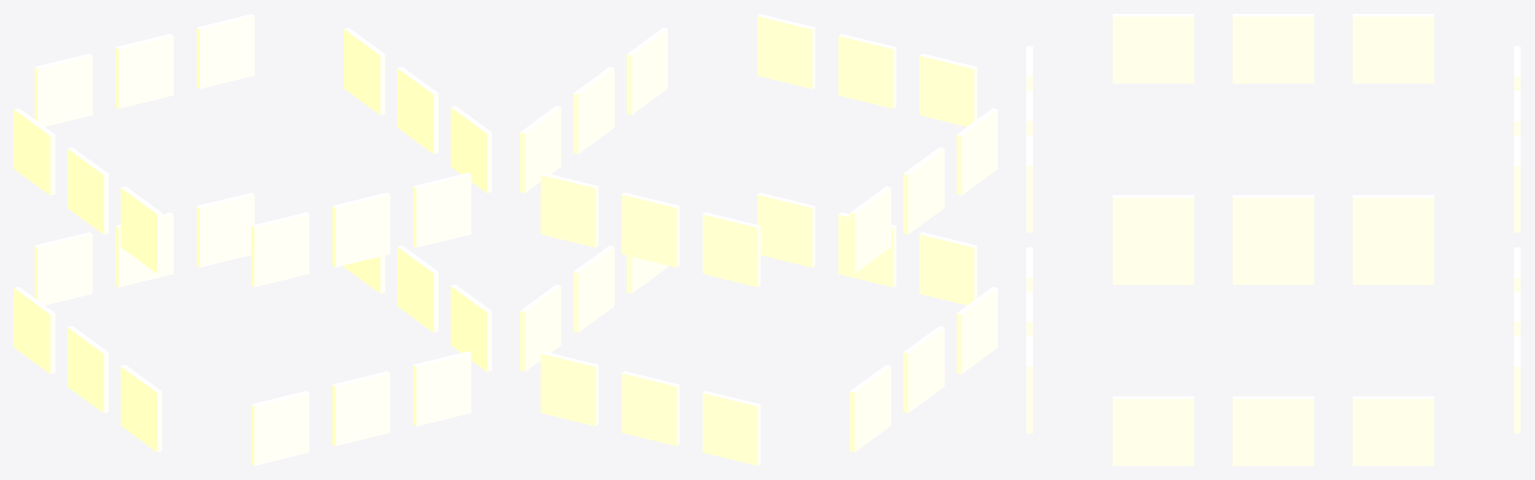
File: building-h.glb
The picture shows the model from 3 angles, left to right: view 1: azimuth 30°, elevation 25°; view 2: azimuth 150°, elevation 25°; view 3: azimuth 270°, elevation 25°; orthographic projection. The views are drawn at different scales.
Parts seen in each view (by area): view 1: WindowLight_front_0_2, WindowLight_back_1_2, WindowLight_front_0_0, WindowLight_back_1_1, WindowLight_front_0_1, WindowLight_front_1_0, WindowLight_front_1_1, WindowLight_front_1_2, WindowLight_back_1_0, WindowLight_back_0_0, WindowLight_back_0_2, WindowLight_left_0_0 (+12 smaller); view 2: WindowLight_back_0_2, WindowLight_back_0_0, WindowLight_front_1_2, WindowLight_back_0_1, WindowLight_back_1_0, WindowLight_front_1_1, WindowLight_back_1_1, WindowLight_back_1_2, WindowLight_front_1_0, WindowLight_front_0_0, WindowLight_front_0_2, WindowLight_left_0_1 (+12 smaller); view 3: WindowLight_left_1_0, WindowLight_left_1_1, WindowLight_left_1_2, WindowLight_right_0_0, WindowLight_right_0_1, WindowLight_right_0_2, WindowLight_right_1_0, WindowLight_right_1_1, WindowLight_right_1_2, WindowLight_left_0_0, WindowLight_left_0_1, WindowLight_left_0_2 (+4 smaller).
Part boxes in pixels (x1,y1,x2,y2): WindowLight_front_0_2: (413,351,471,426); WindowLight_back_1_2: (196,14,254,88); WindowLight_front_0_0: (251,391,309,465); WindowLight_back_1_1: (115,34,173,108); WindowLight_front_0_1: (332,371,390,445); WindowLight_front_1_0: (251,212,309,287); WindowLight_front_1_1: (332,192,390,267); WindowLight_front_1_2: (413,172,471,247); WindowLight_back_1_0: (34,53,92,126); WindowLight_back_0_0: (34,232,92,305); WindowLight_back_0_2: (196,192,254,267); WindowLight_left_0_0: (120,365,161,451); WindowLight_back_0_2: (540,351,598,426); WindowLight_back_0_0: (702,391,760,465); WindowLight_front_1_2: (757,14,815,88); WindowLight_back_0_1: (621,371,679,445); WindowLight_back_1_0: (702,212,760,287); WindowLight_front_1_1: (838,34,896,108); WindowLight_back_1_1: (621,192,679,267); WindowLight_back_1_2: (540,172,598,247); WindowLight_front_1_0: (919,53,977,126); WindowLight_front_0_0: (919,232,977,305); WindowLight_front_0_2: (757,192,815,267); WindowLight_left_0_1: (903,326,944,412); WindowLight_left_1_0: (1112,14,1194,83); WindowLight_left_1_1: (1232,14,1314,83); WindowLight_left_1_2: (1352,14,1434,83); WindowLight_right_0_0: (1112,396,1194,465); WindowLight_right_0_1: (1232,396,1314,465); WindowLight_right_0_2: (1352,396,1434,465); WindowLight_right_1_0: (1112,195,1194,264); WindowLight_right_1_1: (1232,195,1314,264); WindowLight_right_1_2: (1352,195,1434,264); WindowLight_left_0_0: (1112,265,1194,284); WindowLight_left_0_1: (1232,265,1314,284); WindowLight_left_0_2: (1352,265,1434,284).
Bounding box in the file's own units: 0.9136 × 0.6206 × 1.04.
